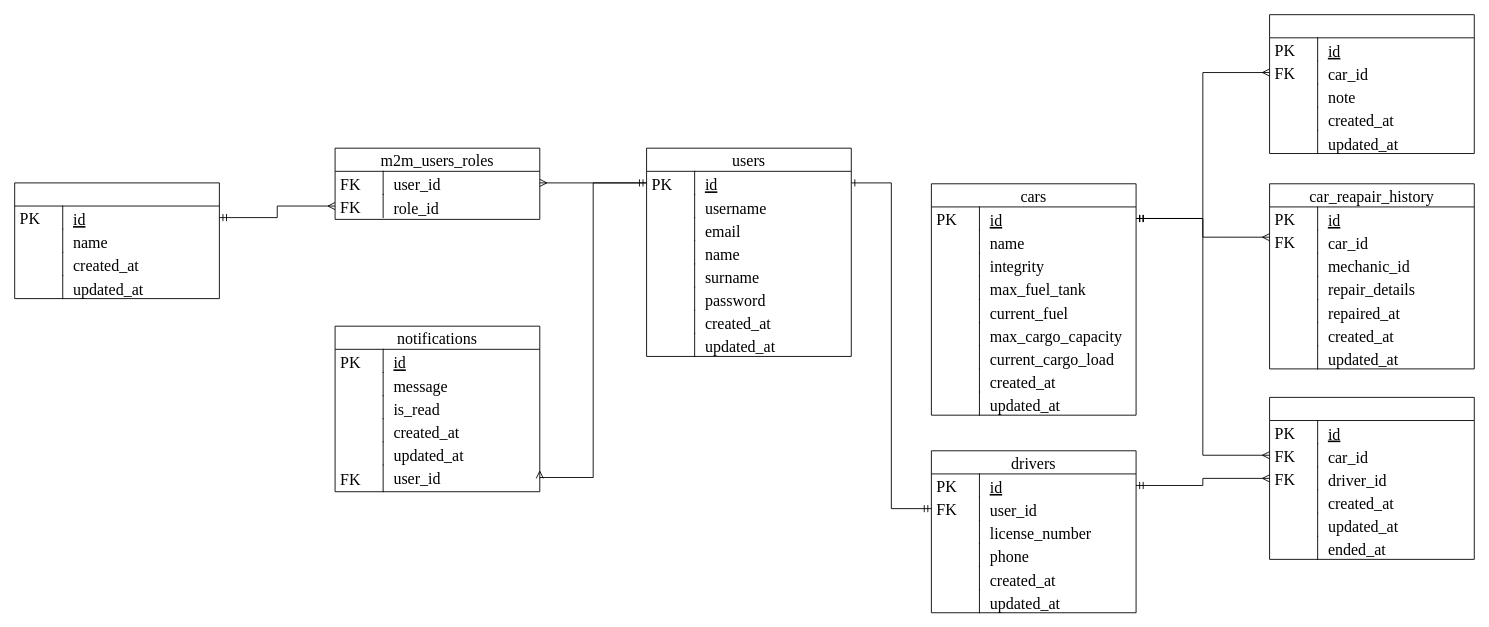
The diagram is 1489 pixels wide and 627 high, and some of its shapes have lost their labels. The shapes that lost their labels are listed below. From the top down, each one's box as (x1, y1, x2, y2) in pixels, then its label:
(1269, 14, 1474, 154): car_notes
(14, 182, 219, 299): u_roles
(1269, 396, 1474, 559): car_driver_history
